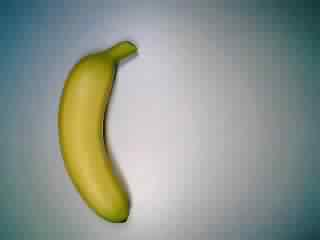banana: (52, 38, 142, 229)
